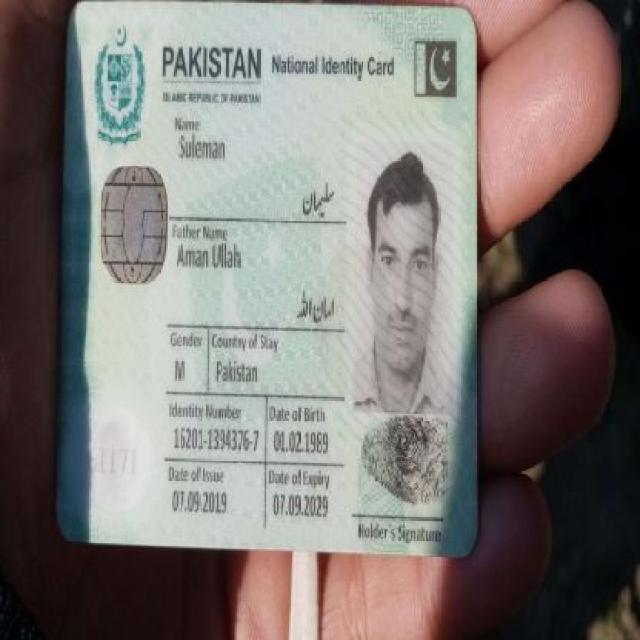Front: (51, 3, 484, 562)
